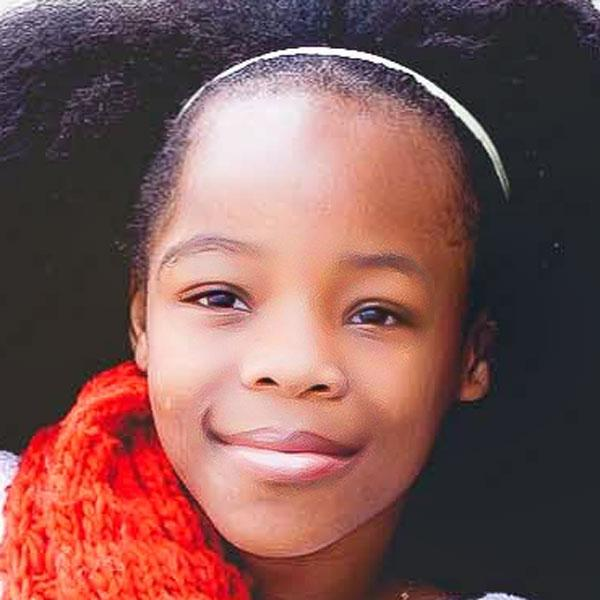Eyes: (166, 262, 262, 328), (334, 282, 420, 345)
